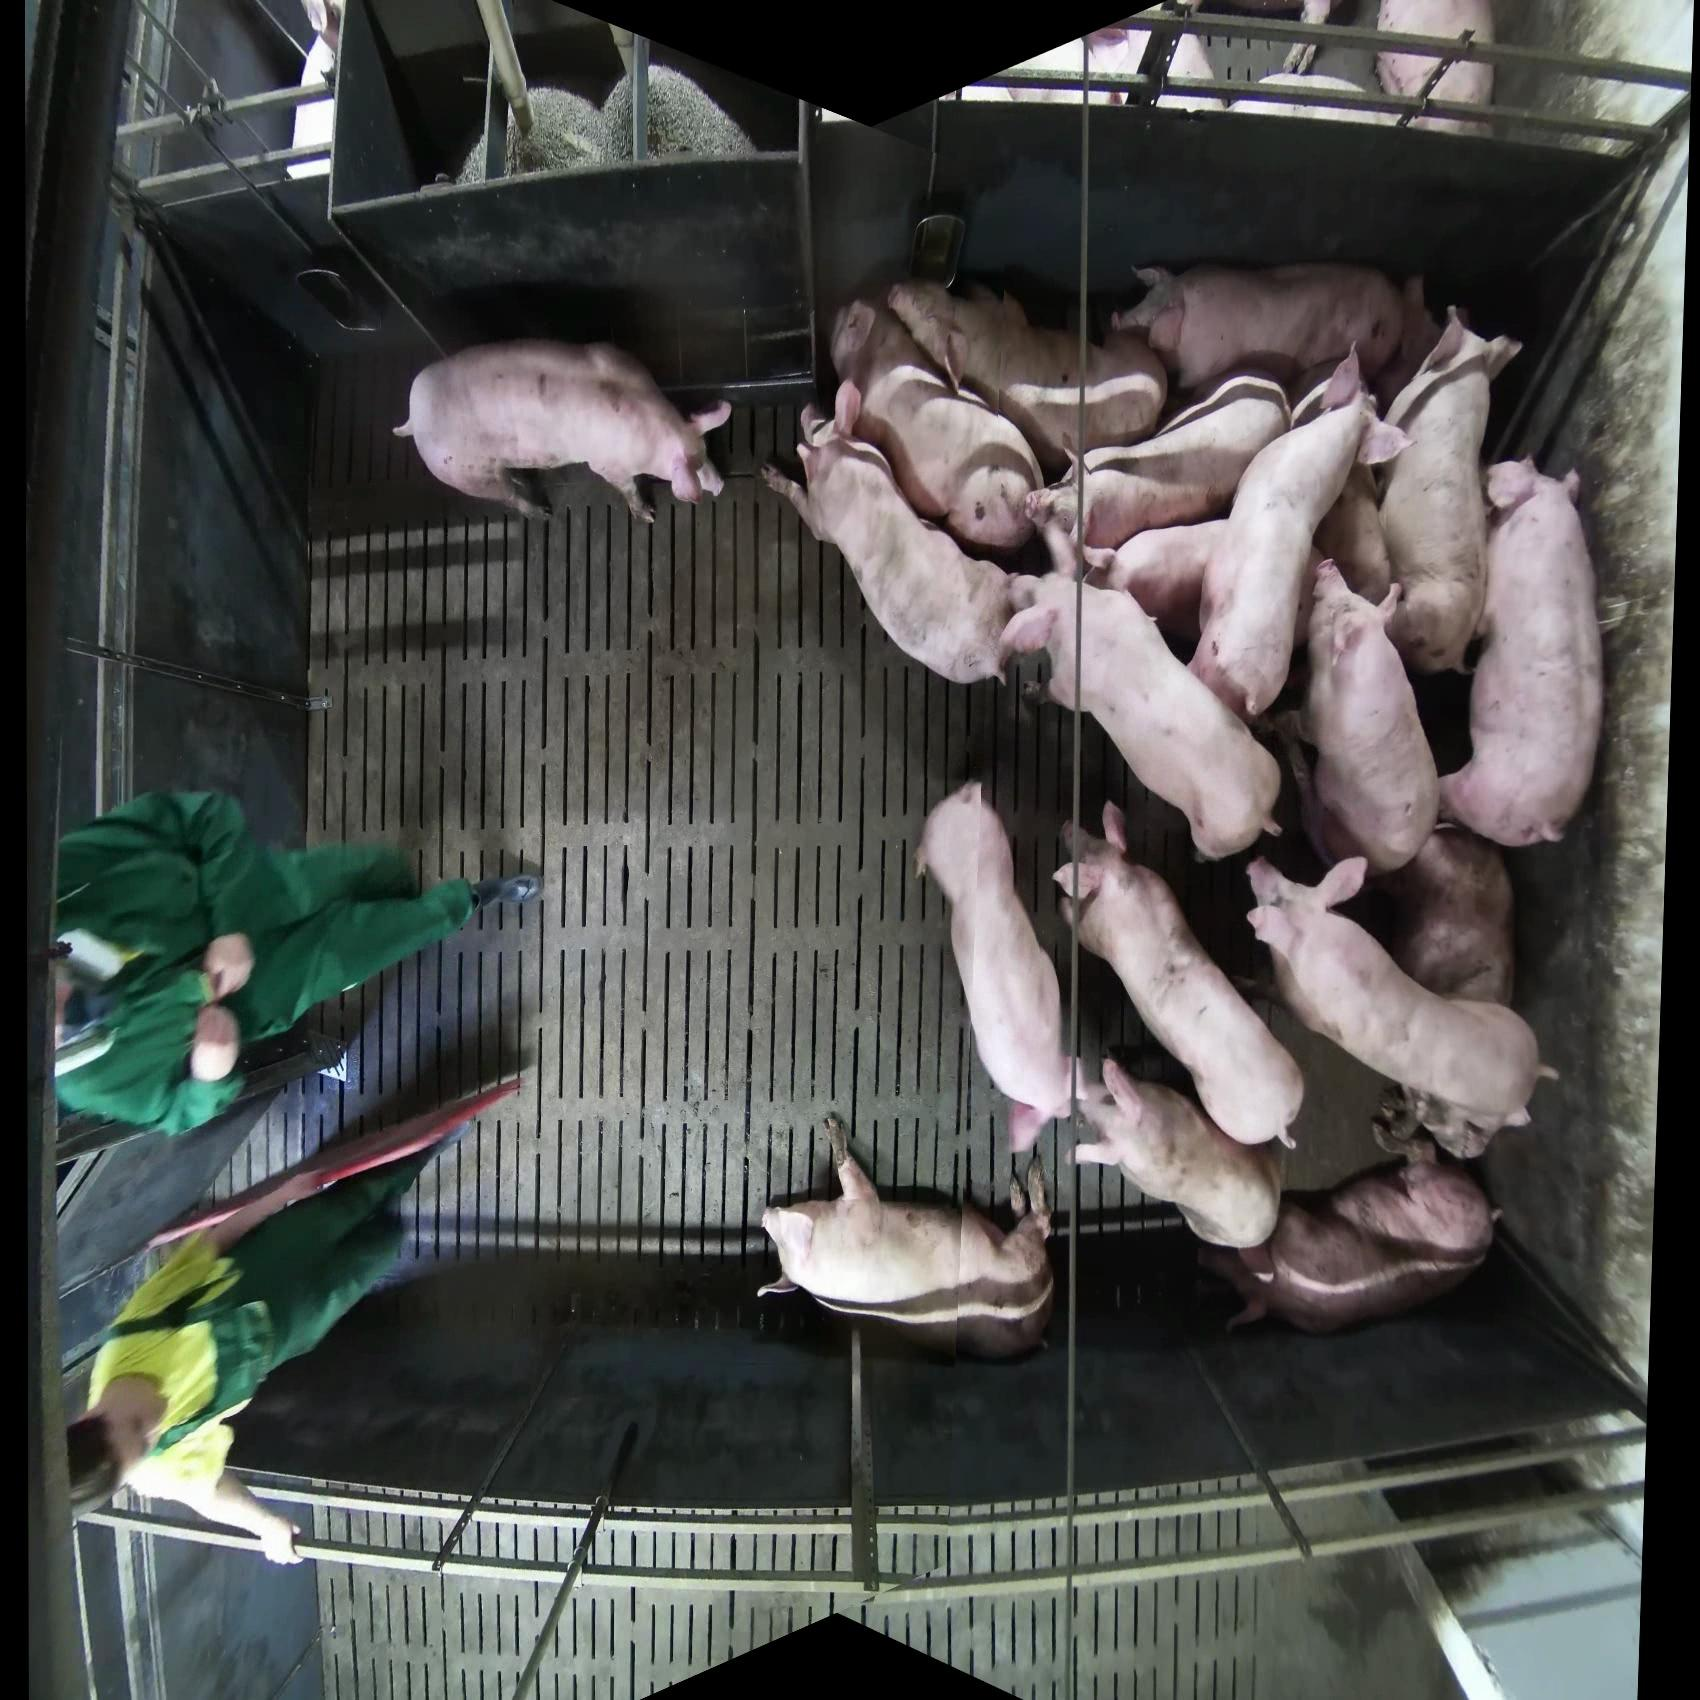pig: (1244, 853, 1559, 1162), (1051, 801, 1307, 1151), (999, 571, 1286, 863), (759, 384, 1032, 687), (759, 1112, 1057, 1363), (1187, 383, 1385, 724), (1437, 457, 1607, 849), (391, 337, 734, 528), (914, 779, 1078, 1154), (1196, 1139, 1501, 1337), (1022, 365, 1293, 577), (885, 275, 1170, 472), (1376, 305, 1525, 677), (829, 298, 1045, 555), (1294, 552, 1442, 876), (1068, 1055, 1290, 1253), (1111, 259, 1409, 397), (1376, 822, 1517, 1007), (1375, 1, 1498, 137), (1085, 22, 1224, 113)
worker: (63, 1066, 532, 1568), (50, 784, 541, 1140)
